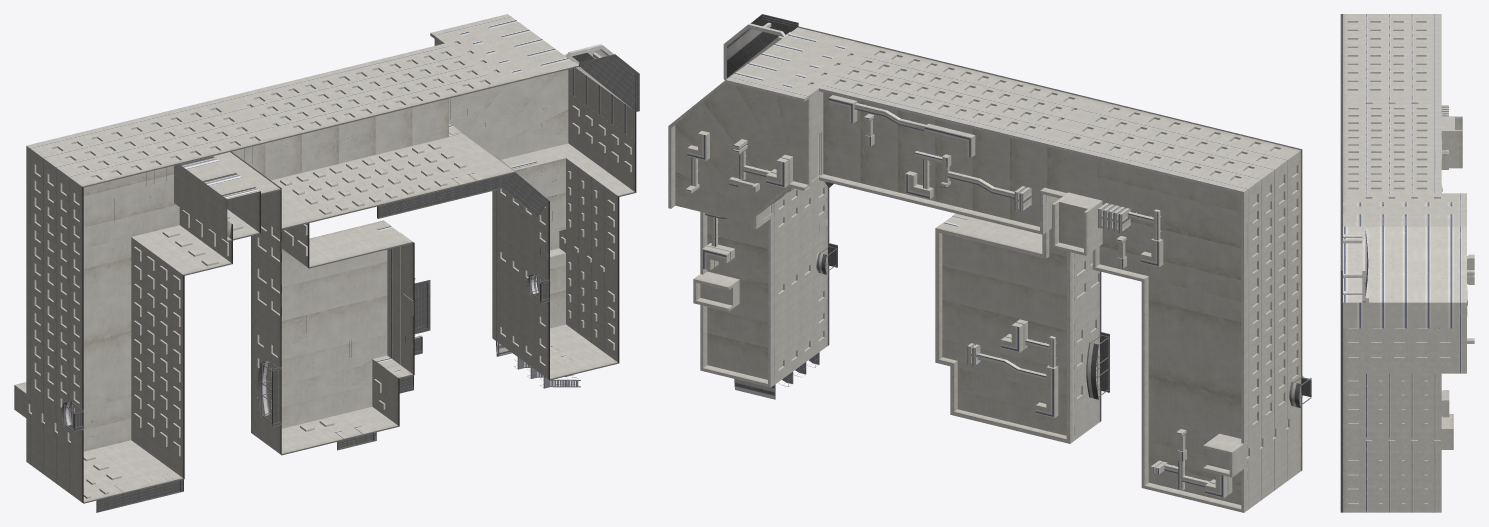
The model's file is plant-building1.glb.
The picture shows the model from 3 angles, left to right: view 1: azimuth 30°, elevation 25°; view 2: azimuth 150°, elevation 25°; view 3: azimuth 270°, elevation 25°; orthographic projection. The views are drawn at different scales.
Parts seen in each view (by area): view 1: Group11417; view 2: Group11417; view 3: Group11417.
Part boxes in pixels (left/top/right/bottom): Group11417: left=14, top=14, right=639, bottom=512; Group11417: left=668, top=14, right=1311, bottom=512; Group11417: left=1340, top=14, right=1474, bottom=512.
Bounding box in the file's own units: 88.12 × 49.53 × 20.71.
1 material, 1 textured.
